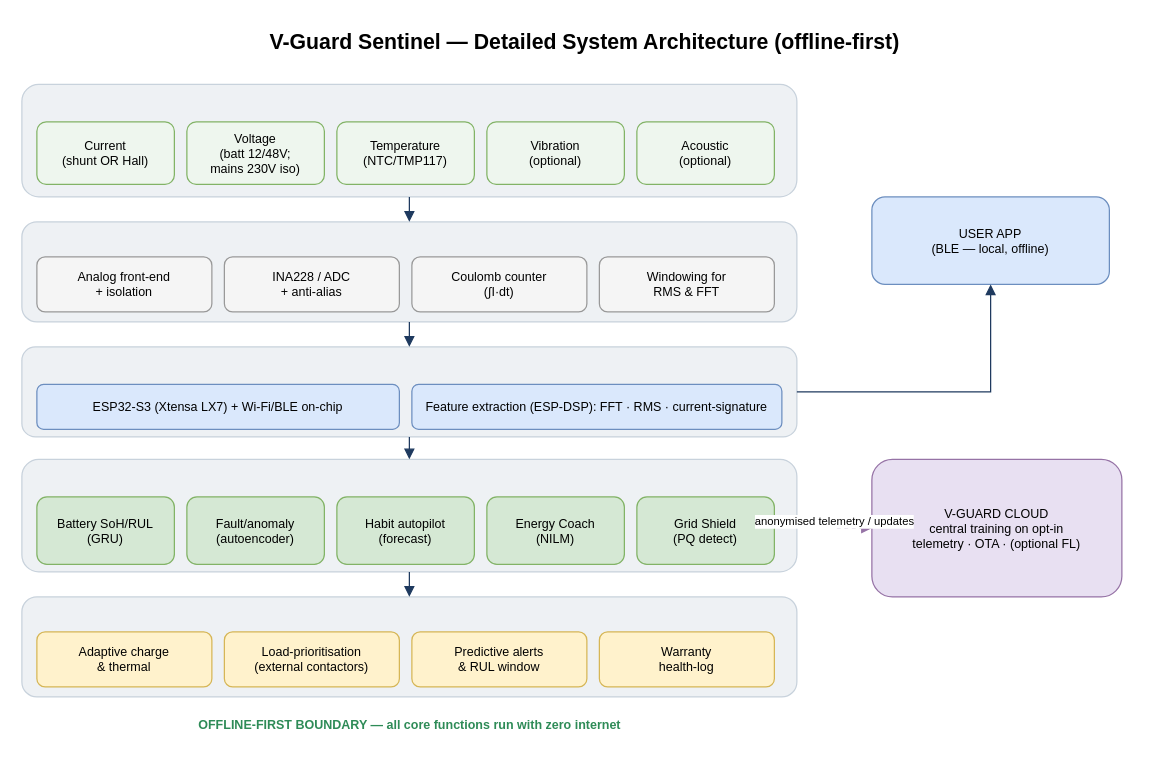
Some shapes in this 1169 by 760 pixel diagram are drawn without their labels. The shapes that lost their labels are listed below. From the top down, each one's box as (x1, y1, x2, y2) in pixels, then its label:
(21, 83, 797, 197): 1 · SENSING LAYER (existing signals + low-cost adds)
(21, 221, 797, 322): 2 · SIGNAL CONDITIONING & ACQUISITION
(21, 346, 797, 437): 3 · EDGE COMPUTE — Sentinel AI Core
(21, 458, 797, 572): 4 · ON-DEVICE AI ENGINES (TinyML, int8)
(21, 596, 797, 697): 5 · DECISION & ACTUATION
